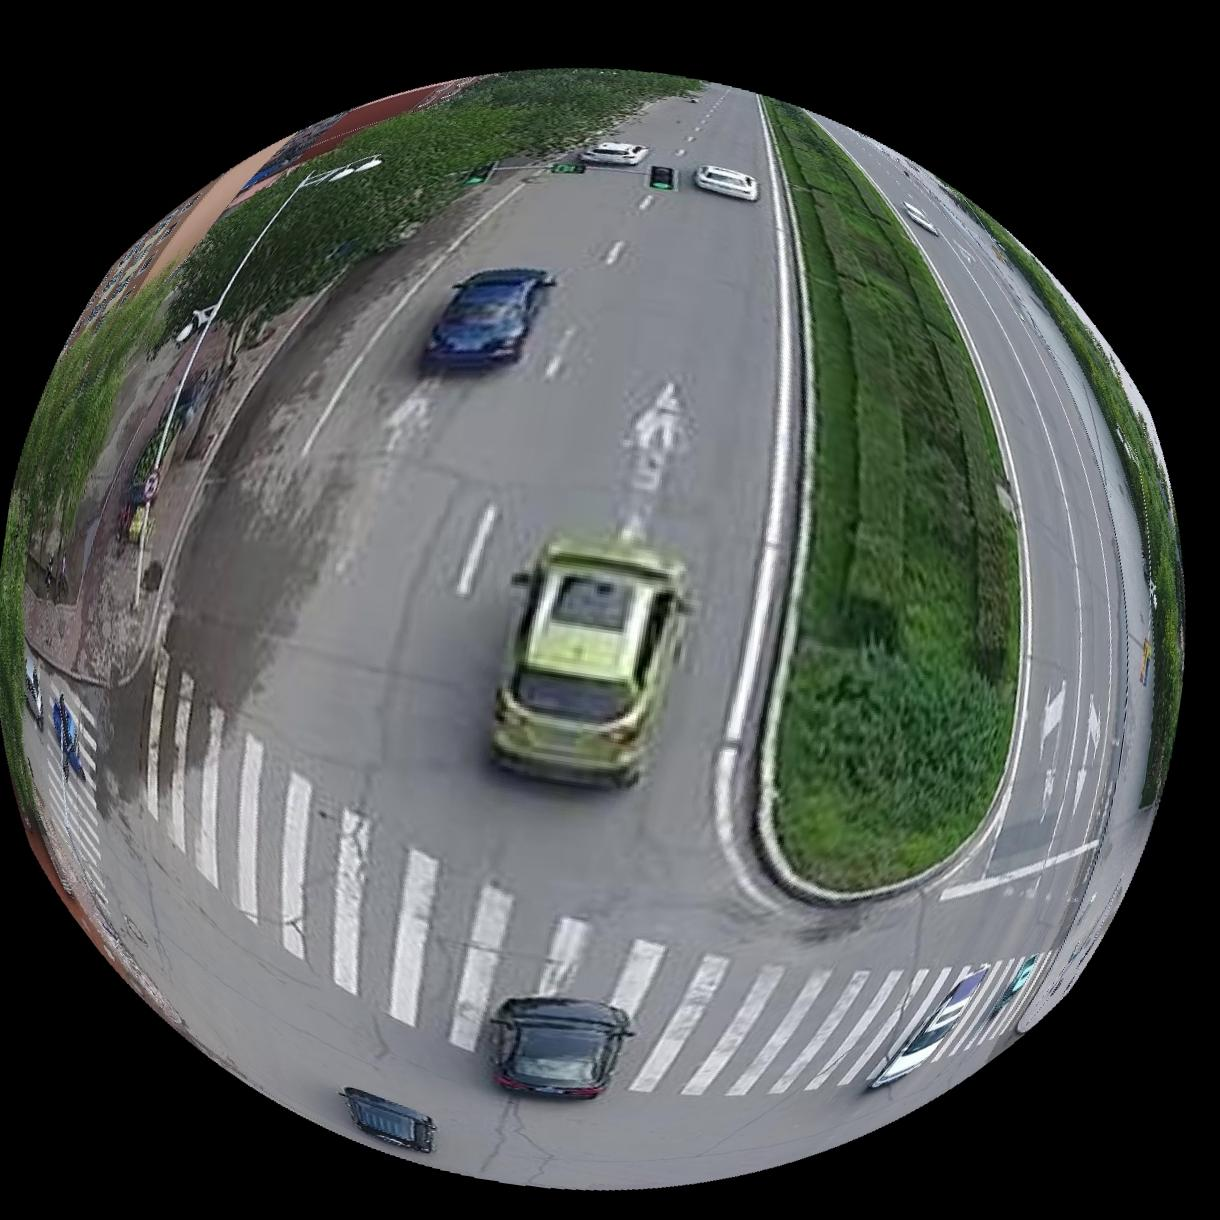cars: (490, 534, 684, 788), (870, 966, 991, 1089), (489, 998, 631, 1100), (419, 266, 555, 369), (340, 1088, 433, 1155), (694, 163, 757, 200), (580, 140, 648, 164)
trees: (161, 68, 697, 342), (0, 280, 169, 781)
